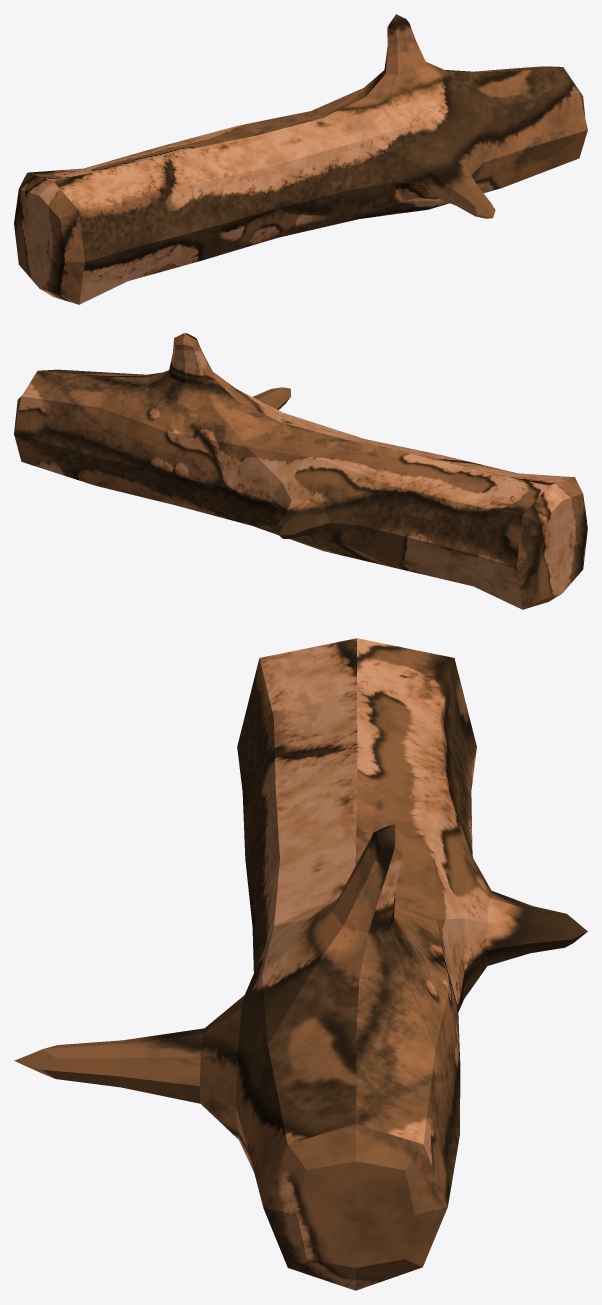
File: mod_obj_fallenLog.fbx
3 renders of one model, top to bottom at view 1: azimuth 30°, elevation 25°; view 2: azimuth 150°, elevation 25°; view 3: azimuth 270°, elevation 25°, orthographic. The views are drawn at different scales.
Visible parts, largest first — view 1: mesh_obj_fallenTree; view 2: mesh_obj_fallenTree; view 3: mesh_obj_fallenTree.
Boxes of the visible parts, x1,y1,x2,y2 form: mesh_obj_fallenTree: (14, 14, 587, 304); mesh_obj_fallenTree: (14, 333, 587, 609); mesh_obj_fallenTree: (14, 638, 587, 1290).
Bounding box in the file's own units: 815 × 278 × 407.
